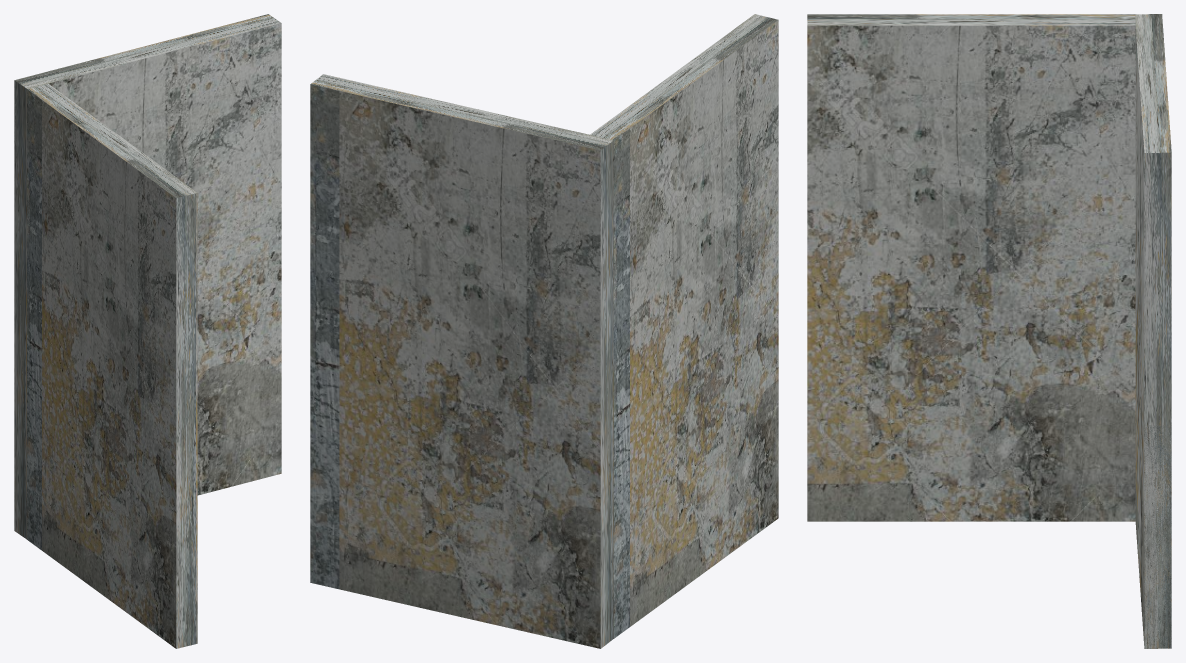
The model's file is wall_corner.fbx.
The picture shows the model from 3 angles, left to right: view 1: azimuth 30°, elevation 25°; view 2: azimuth 150°, elevation 25°; view 3: azimuth 270°, elevation 25°; orthographic projection. The views are drawn at different scales.
Parts seen in each view (by area): view 1: Cube; view 2: Cube; view 3: Cube.
Boxes of the visible parts, x1=… form: Cube: x1=14, y1=14, x2=281, y2=648; Cube: x1=310, y1=14, x2=778, y2=648; Cube: x1=807, y1=14, x2=1171, y2=648.
Bounding box in the file's own units: 1202 × 2000 × 1332.
